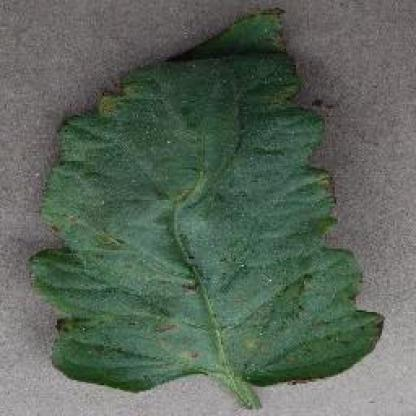bad leaf: (11, 10, 408, 412)
